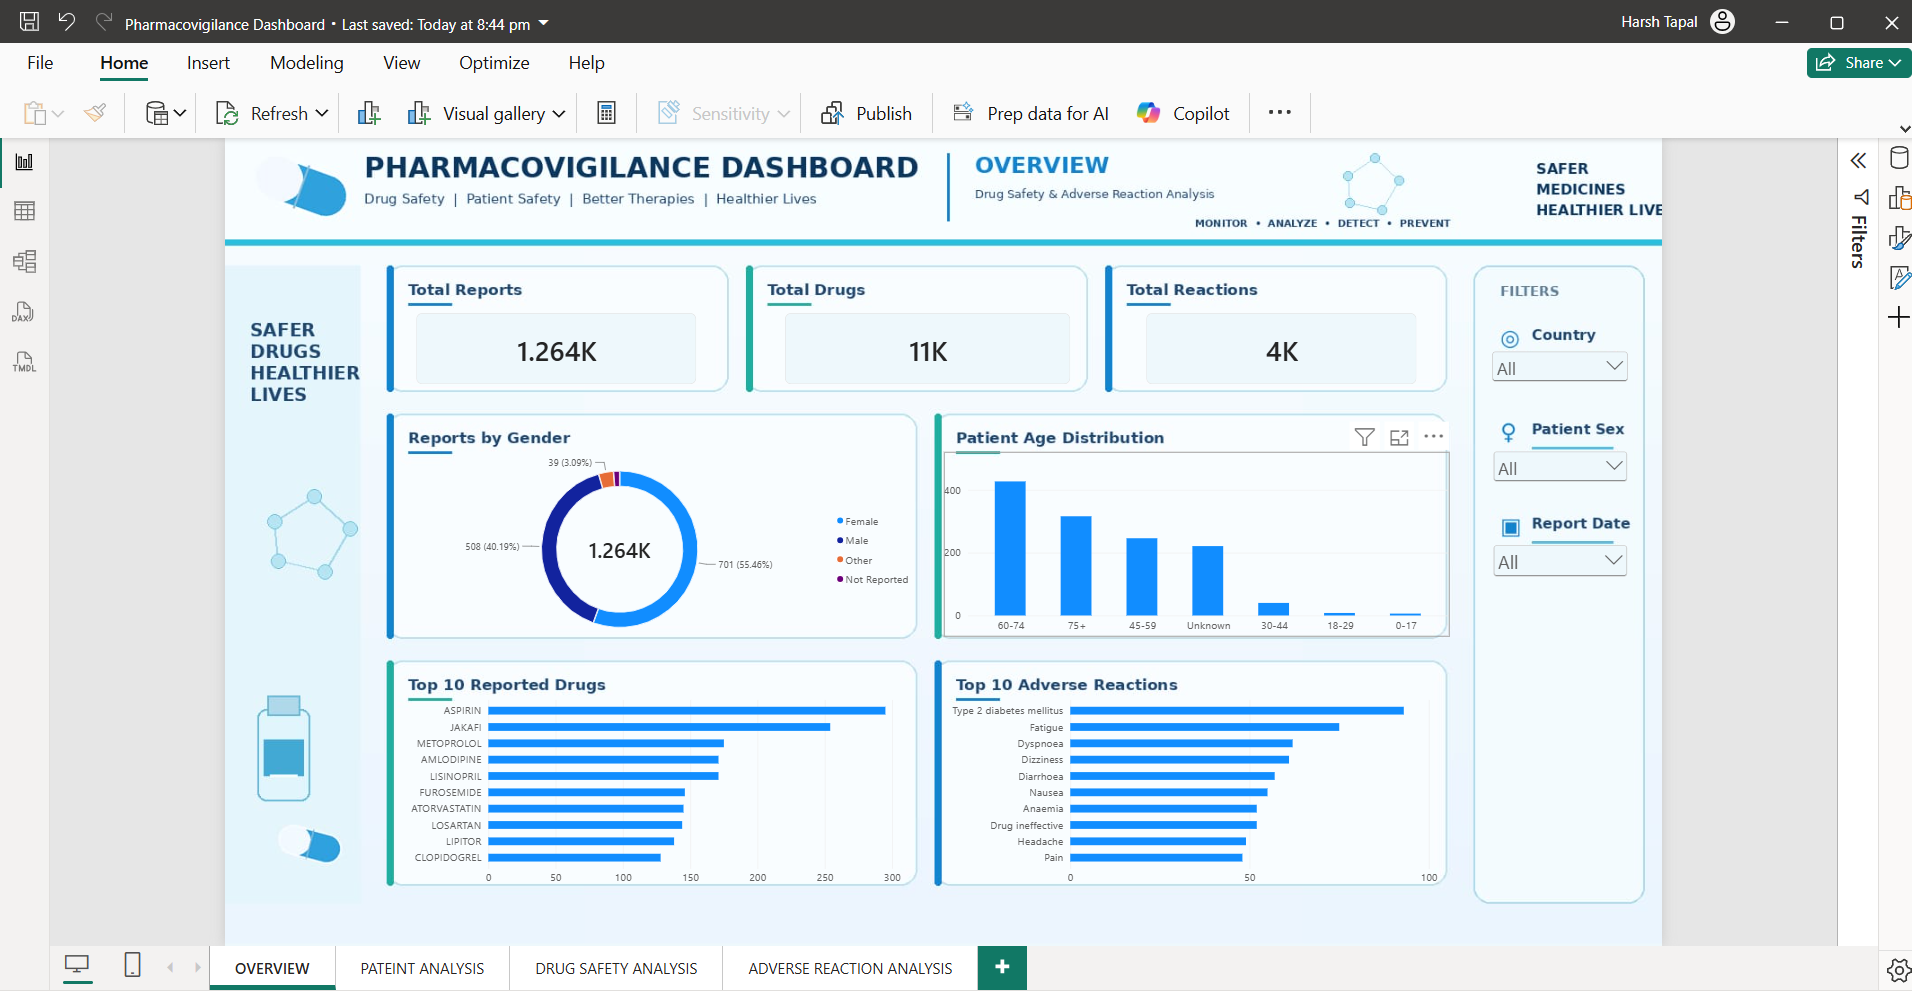

The dashboard page shown, as its layout file describes it:
{"tool":"powerbi","page":{"name":"OVERVIEW","canvas":[1920,1080],"ordinal":0},"visuals":[{"type":"cardVisual","fields":{"Data":["Drugs.Total Reports"]},"box":[255.4,233.7,374.4,95.2],"z":0},{"type":"cardVisual","fields":{"Data":["Drugs.Total Drugs"]},"box":[748.8,233.7,381.8,95.9],"z":1000},{"type":"cardVisual","fields":{"Data":["Drugs.Total Reactions"]},"box":[1230.6,233.4,361.9,95.9],"z":2000},{"type":"textbox","box":[0,310,300,300],"z":3000},{"type":"donutChart","title":"Reports by Gender","fields":{"Category":["Reports.patient_sex"],"Y":["CountNonNull(Reports.report_id)"]},"box":[238.1,413.4,683.9,270.5],"z":4000},{"type":"clusteredColumnChart","title":"Patient Age Distribution","fields":{"Category":["Reports.Age Group"],"Y":["Count(Reports.report_id)"]},"box":[960.9,419.8,675.2,246.7],"z":5000},{"type":"clusteredBarChart","title":"TOP 10 REPORTED DRUGS","fields":{"Category":["Drugs.drug_name"],"Y":["Count(Drugs.report_id)"]},"box":[238.1,742.3,664.4,259.7],"z":6000},{"type":"clusteredBarChart","title":"Top 10 Adverse Reactions","fields":{"Category":["Reactions.reaction_name"],"Y":["Count(Reactions.report_id)"]},"box":[960.9,742.3,660.1,259.7],"z":7000},{"type":"slicer","title":"Country","fields":{"Values":["Reports.Country Full"]},"box":[1688,281.3,190.4,95.2],"z":8000},{"type":"slicer","title":"Patient Sex","fields":{"Values":["Reports.Patient Sex Label"]},"box":[1690.2,413.4,188.3,86.6],"z":9000},{"type":"slicer","title":"Report Date","fields":{"Values":["Reports.Report Date"]},"box":[1690.2,538.9,188.2,465.1],"z":10000}]}

Visuals, with their boxes on the page's 1920x1080 design canvas (x1, y1, x2, y2). These are canvas units, not pixel positions in the 1912x991 screenshot, which may show the page scaled, cropped or inside an application window:
cardVisual - Drugs.Total Reports: (255, 234, 630, 329)
cardVisual - Drugs.Total Drugs: (749, 234, 1131, 330)
cardVisual - Drugs.Total Reactions: (1231, 233, 1592, 329)
textbox: (0, 310, 300, 610)
"Reports by Gender" donutChart: (238, 413, 922, 684)
"Patient Age Distribution" clusteredColumnChart: (961, 420, 1636, 666)
"TOP 10 REPORTED DRUGS" clusteredBarChart: (238, 742, 902, 1002)
"Top 10 Adverse Reactions" clusteredBarChart: (961, 742, 1621, 1002)
"Country" slicer: (1688, 281, 1878, 376)
"Patient Sex" slicer: (1690, 413, 1878, 500)
"Report Date" slicer: (1690, 539, 1878, 1004)
